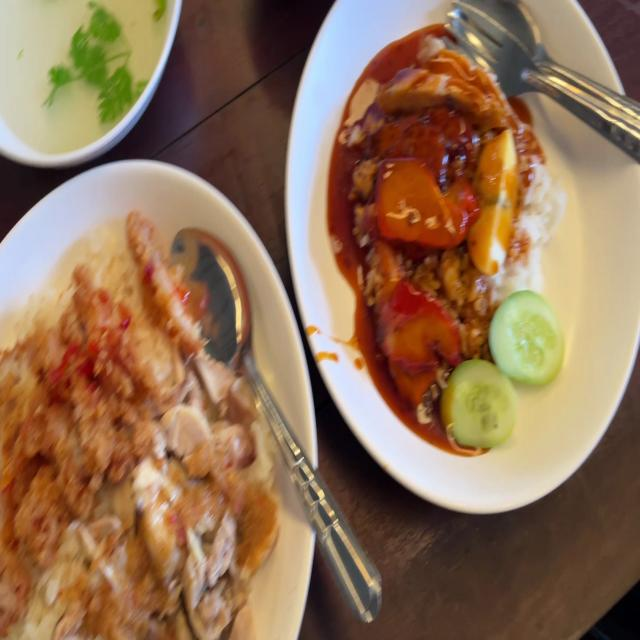01boiled_egg: (470, 124, 521, 273)
01chainese_sausage: (374, 106, 467, 168)
01crispy_pork: (373, 41, 522, 108)
01red_pork: (371, 278, 459, 402), (375, 159, 475, 245)
01red_pork_and_crispy_pork: (345, 34, 571, 451)
boiled_chicken: (64, 351, 274, 640)
chicken_rice: (0, 205, 277, 640)
cucumber: (488, 291, 568, 391), (441, 355, 518, 451)
fried_chicken: (0, 207, 199, 546)
